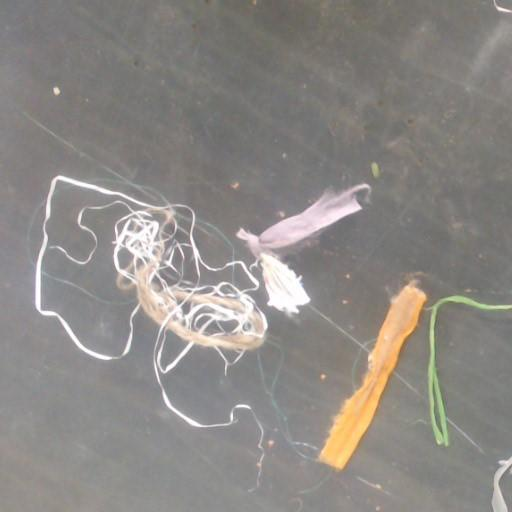cloth: (319, 280, 426, 469), (492, 456, 511, 511)
thread: (36, 176, 267, 425), (429, 295, 511, 446)
